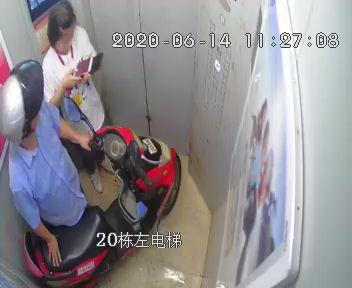Electric-bicycle: (19, 128, 180, 281)
